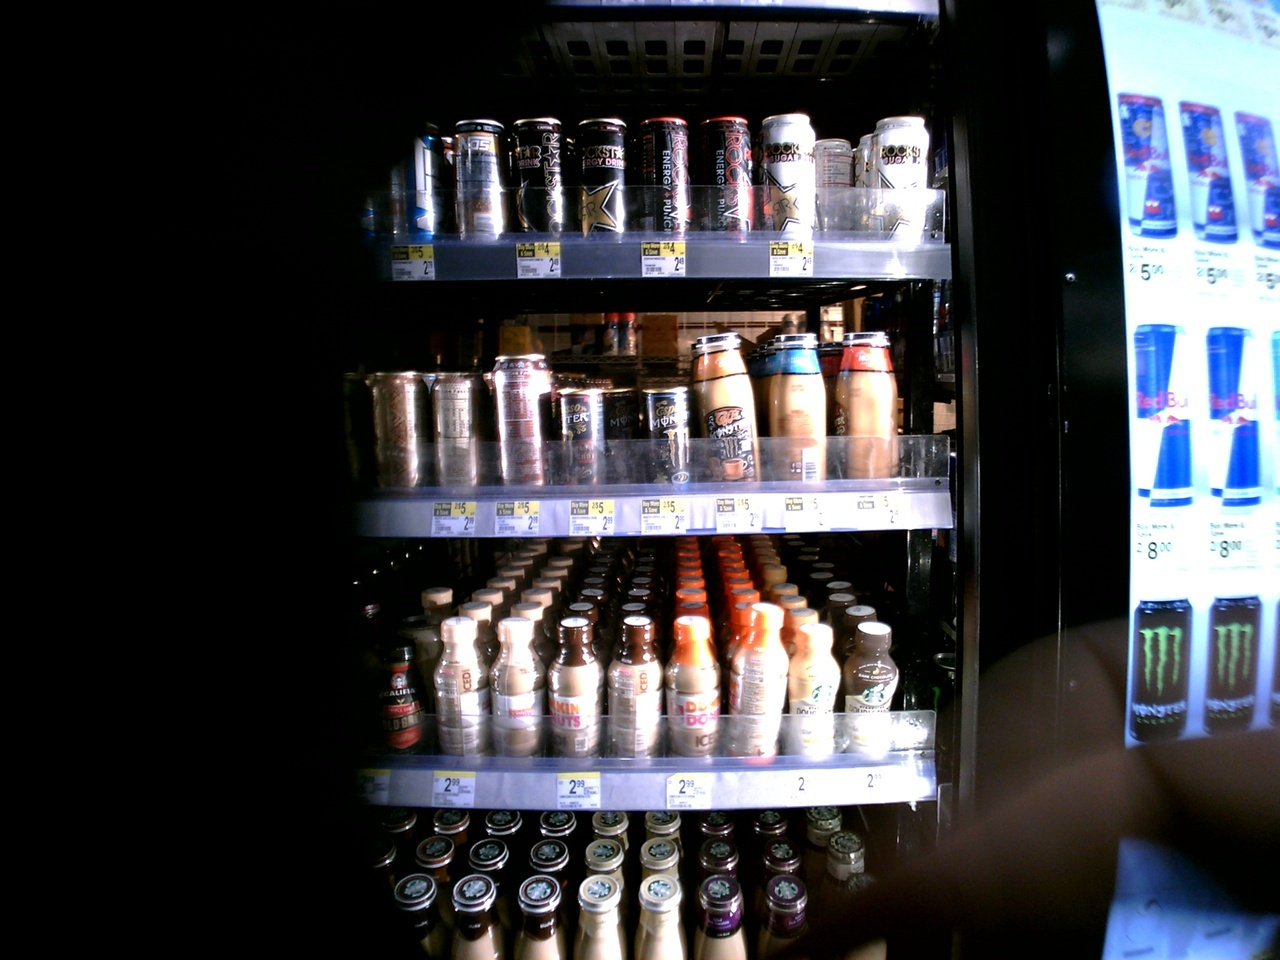shelf: (316, 535, 966, 796), (348, 298, 940, 548), (336, 63, 957, 273), (385, 802, 951, 960)
